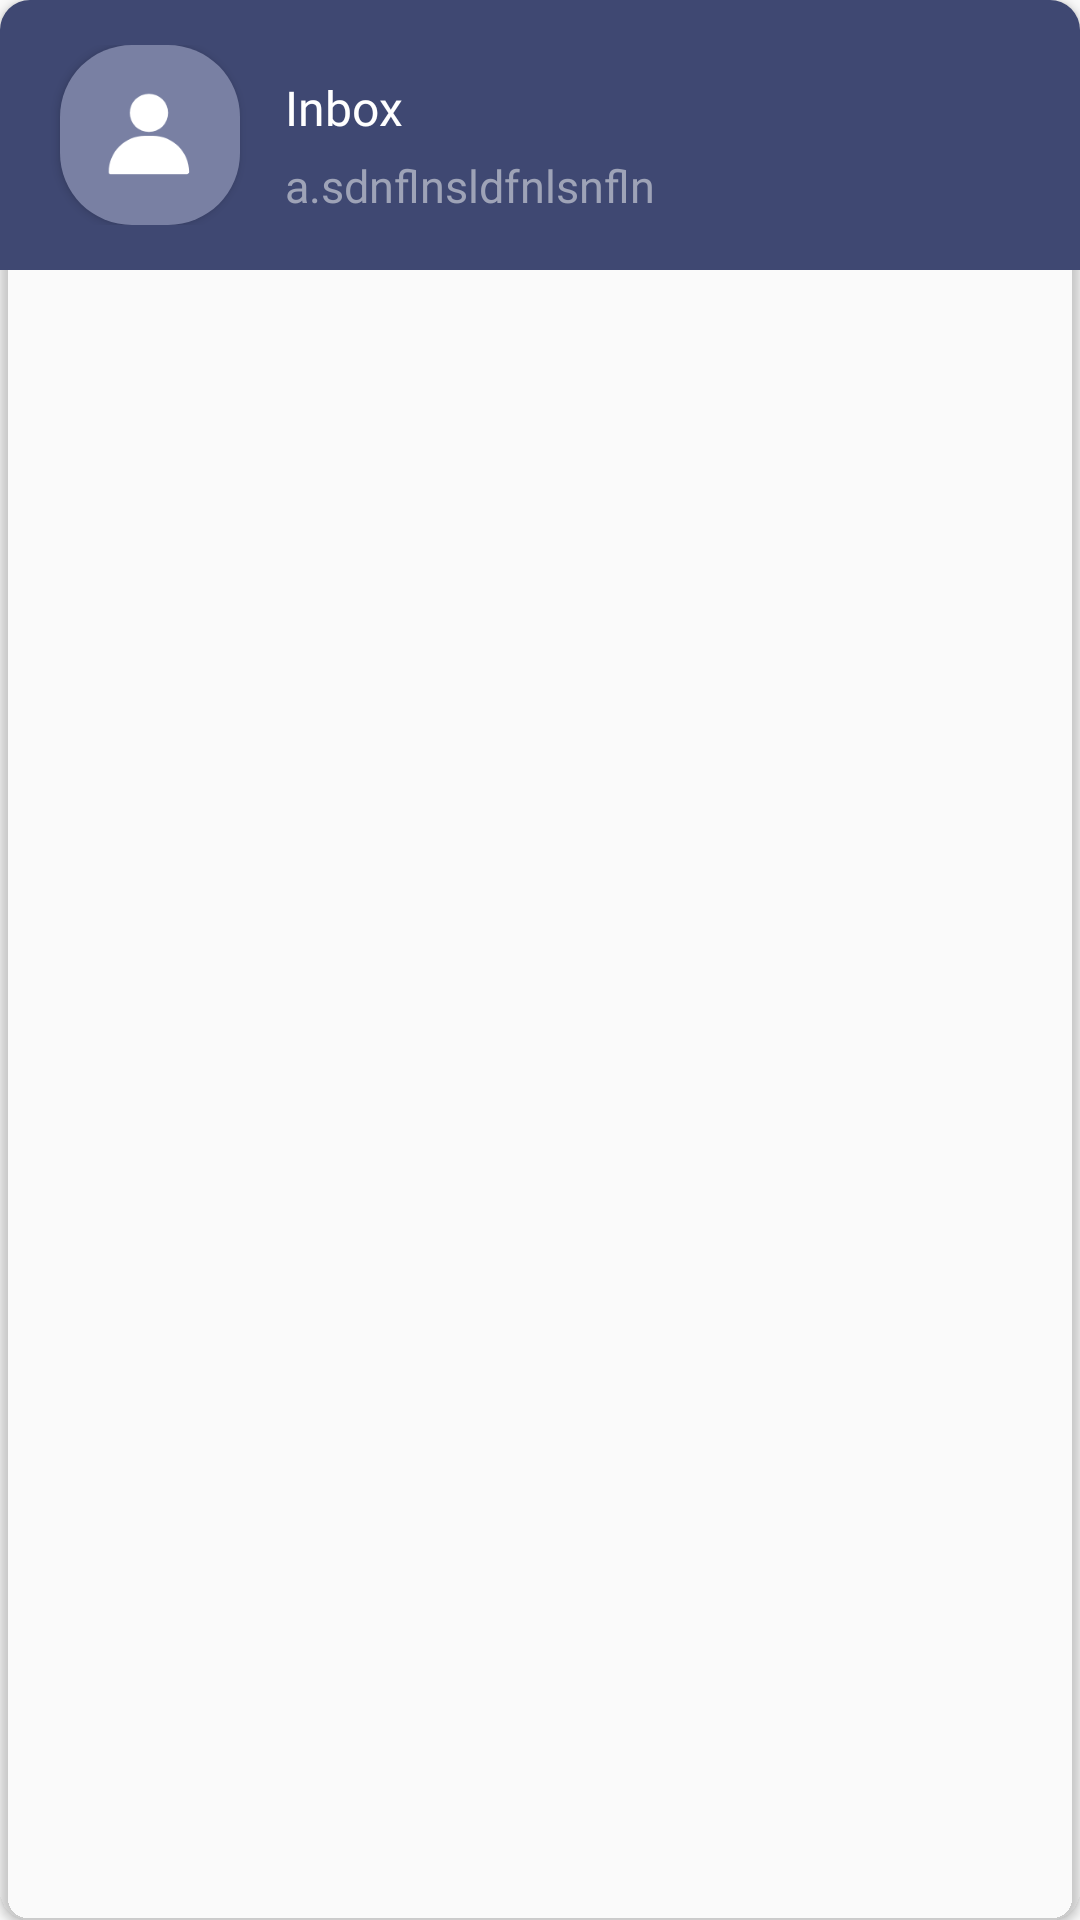

Named icons in this screenshot (1080 x 1920) and their centers, [x,y]:
profile: [150,135]
